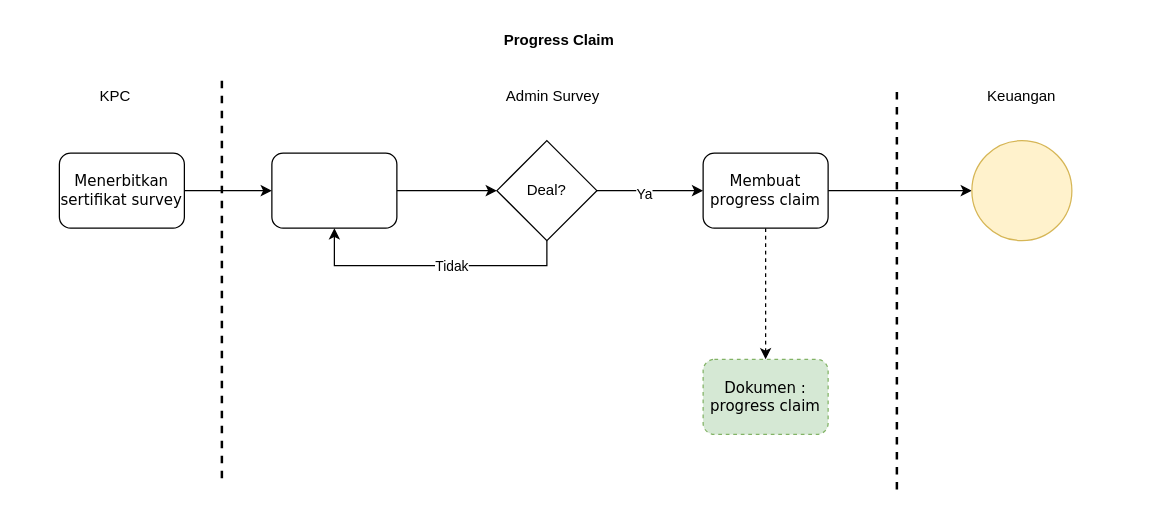
This 1155x513 diagram has some shape labels left out. The centre of each missing label's shape, as x and y in pixels:
"Melakukan reconcile volume" belongs at pixel 334 190.
"Proses Invoice" belongs at pixel 1021 190.
